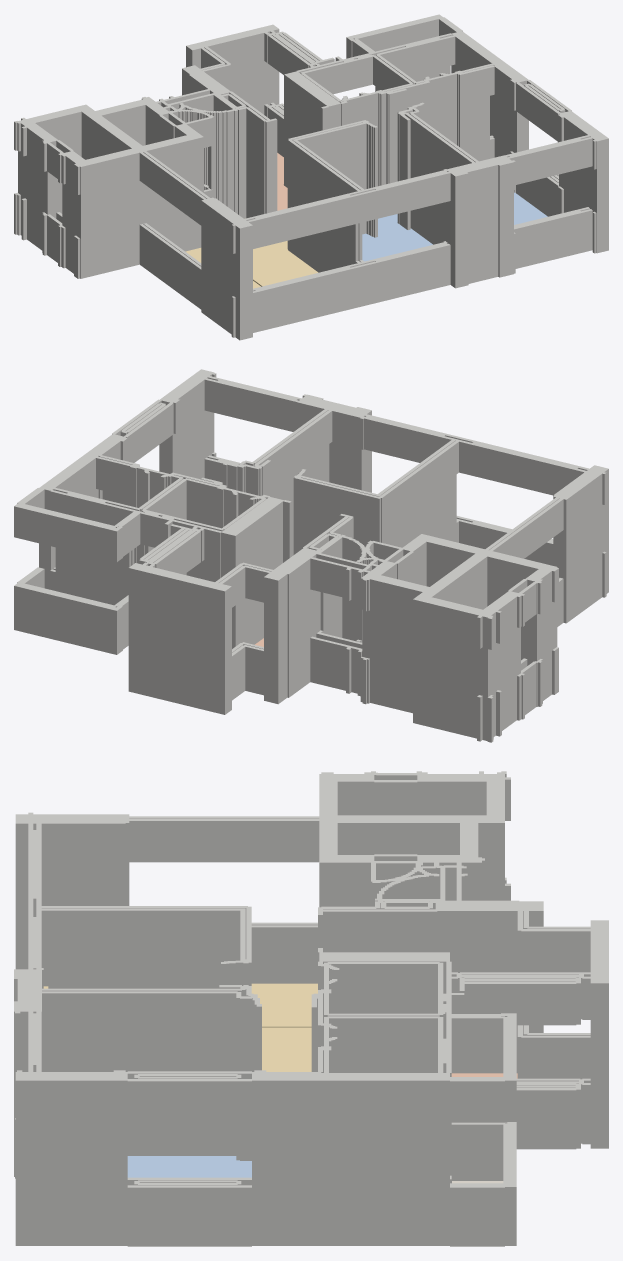
The picture shows the model from 3 angles, top to bottom: view 1: azimuth 30°, elevation 25°; view 2: azimuth 150°, elevation 25°; view 3: azimuth 270°, elevation 25°; orthographic projection. The views are drawn at different scales.
Parts seen in each view (by area): view 1: walls, room:living:7, room:bedroom:8, room:bedroom:9, room:kitchen:0; view 2: walls; view 3: walls, room:bedroom:9, room:living:6, room:living:7.
Part boxes in pixels (x1,y1,x2,y2): walls: [14, 14, 608, 340]; room:living:7: [253, 241, 318, 286]; room:bedroom:8: [362, 214, 432, 261]; room:bedroom:9: [514, 192, 547, 224]; room:kitchen:0: [277, 153, 287, 210]; walls: [14, 369, 608, 742]; walls: [14, 771, 608, 1246]; room:bedroom:9: [127, 1156, 251, 1177]; room:living:6: [43, 983, 317, 1027]; room:living:7: [262, 1027, 311, 1071].
Size of the model in its own units: 11.25 by 2.8 by 9.13.
